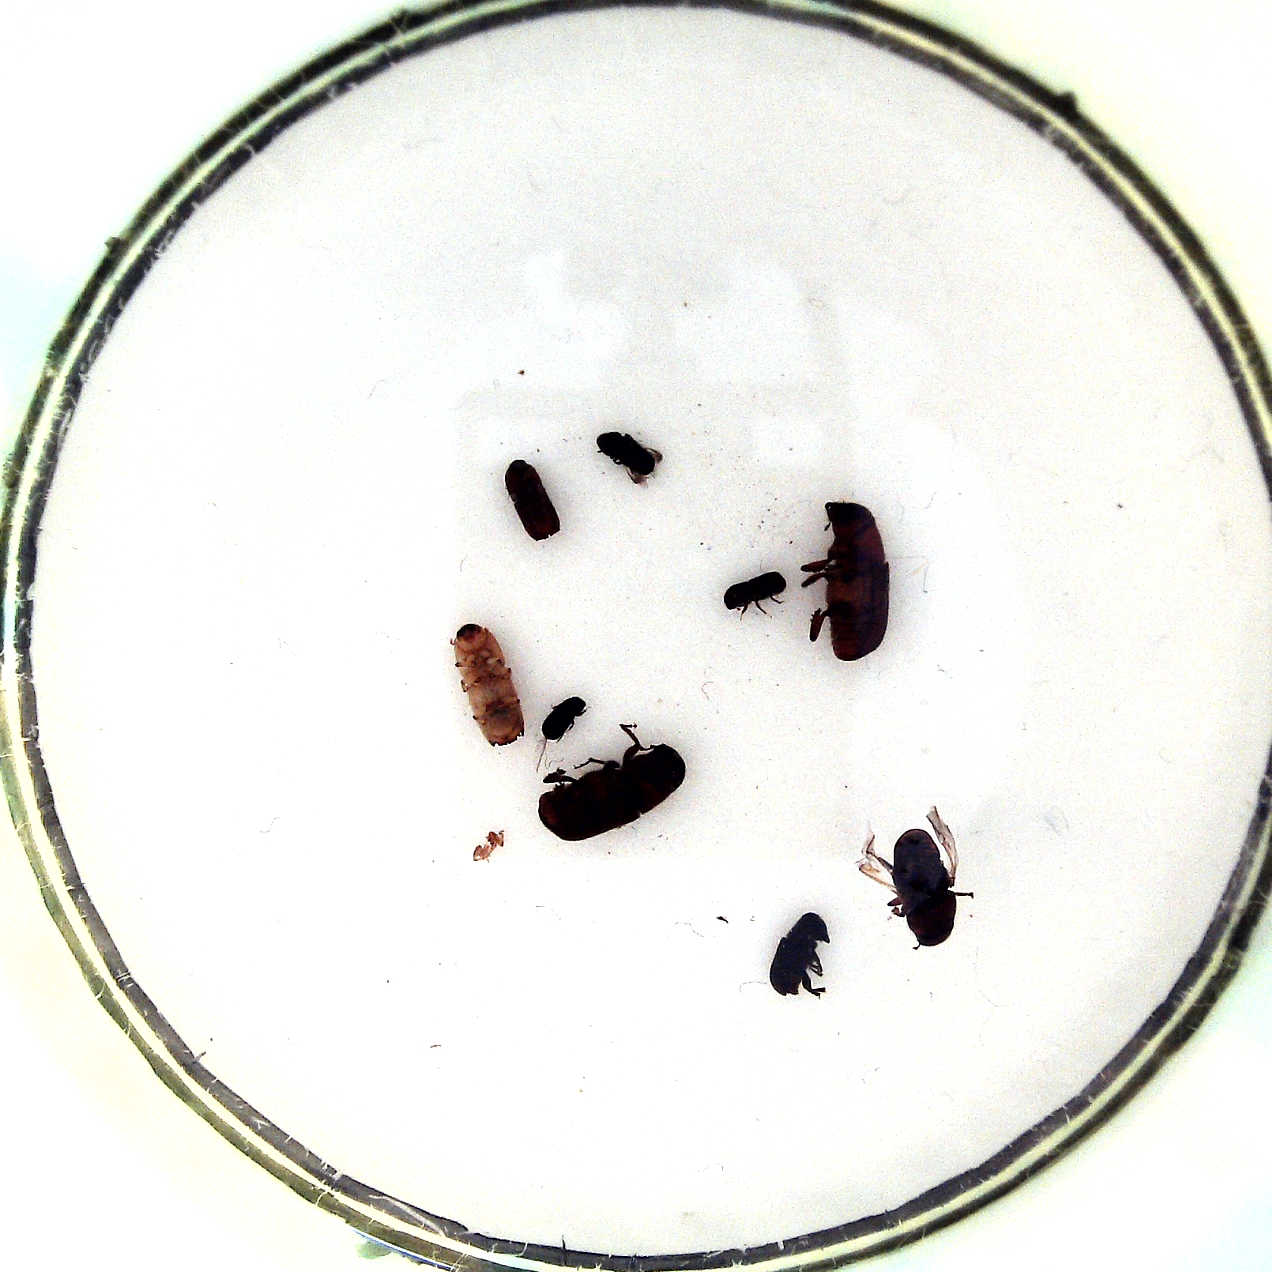Boerner: (444, 617, 533, 749)
Leconte: (533, 718, 692, 848), (856, 804, 978, 956), (797, 494, 897, 667)
Linnaeus: (500, 451, 568, 546)
armandi: (764, 907, 839, 1004)
coleoptera: (595, 425, 664, 487), (718, 568, 792, 622), (538, 690, 592, 745)
